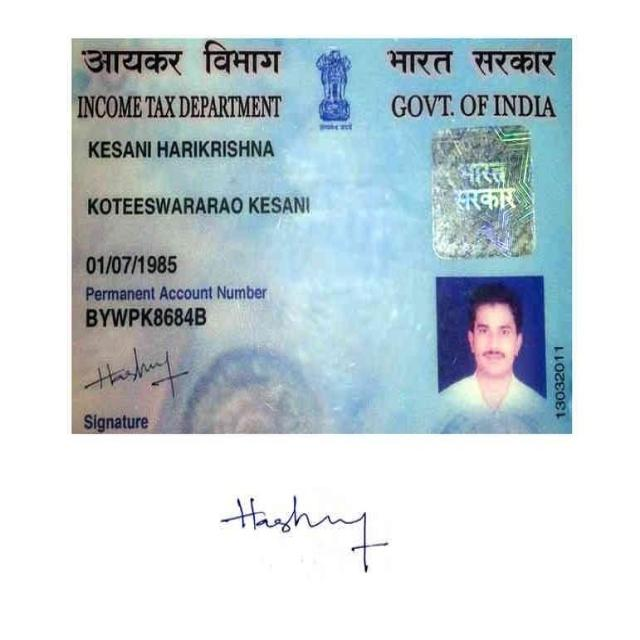pan_card: (73, 39, 575, 433)
